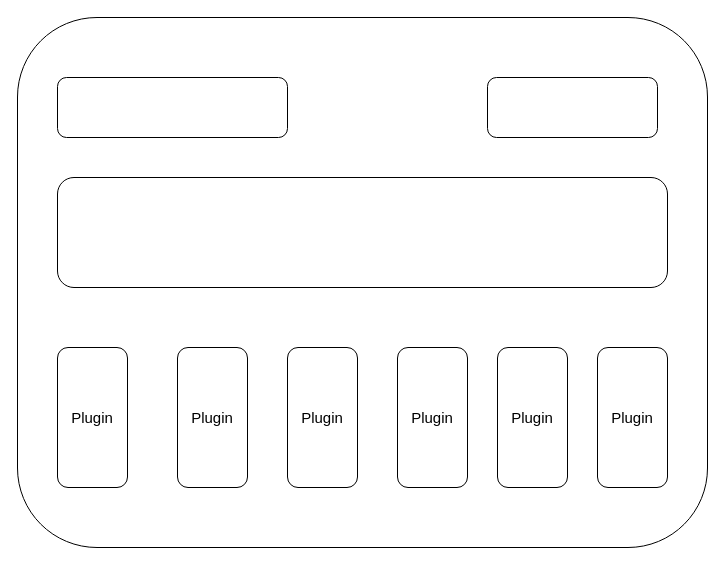
Some shapes in this 725 by 565 pixel diagram are drawn without their labels. Each missing label, with the box of its shape:
Build lifecycle & phases: (56, 176, 668, 288)
Dependency: (486, 76, 658, 138)
POM (Project Object Model): (56, 76, 288, 138)
